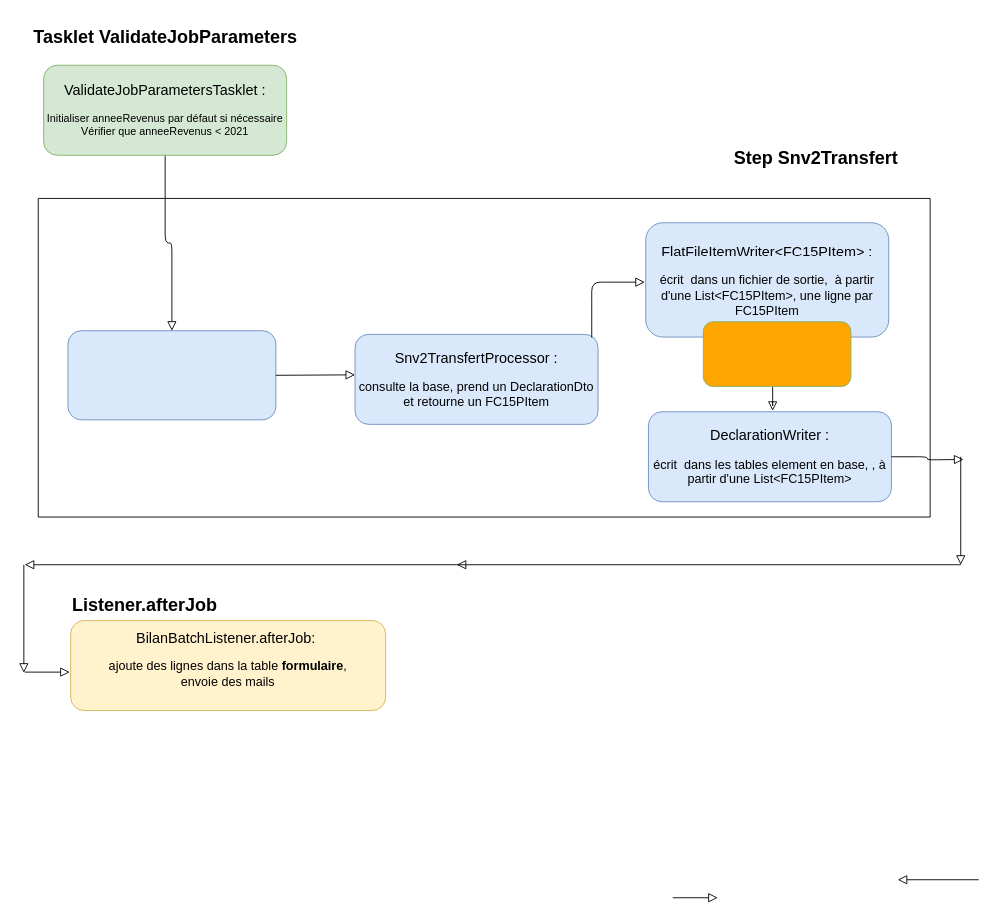
This 1004x923 diagram has some shape labels left out. The shapes that lost their labels are listed below. From the top down, each one's box as (x1, y1, x2, y2) in pixels, then its label:
(702, 321, 851, 387): Fc15pCallBackWriter: met un header & footer dans le fichier de sortie
(67, 330, 276, 420): Snv2TransfertReader : consulte la base, retourne un DeclarationDto
